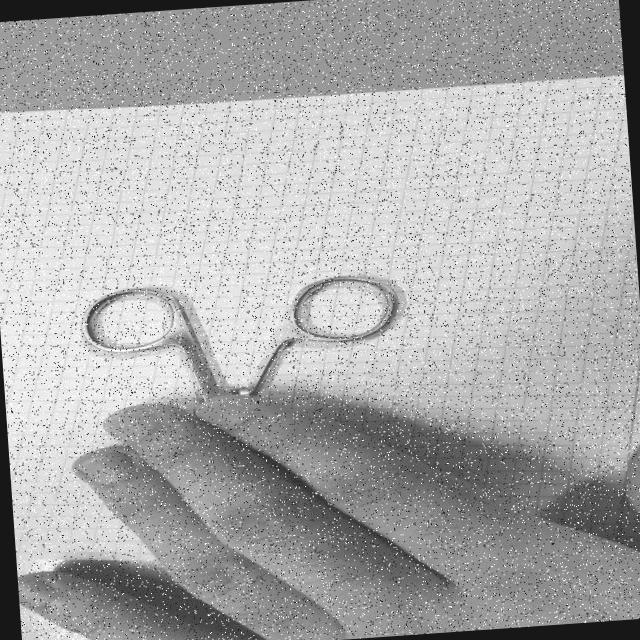scissors: (64, 262, 426, 496)
